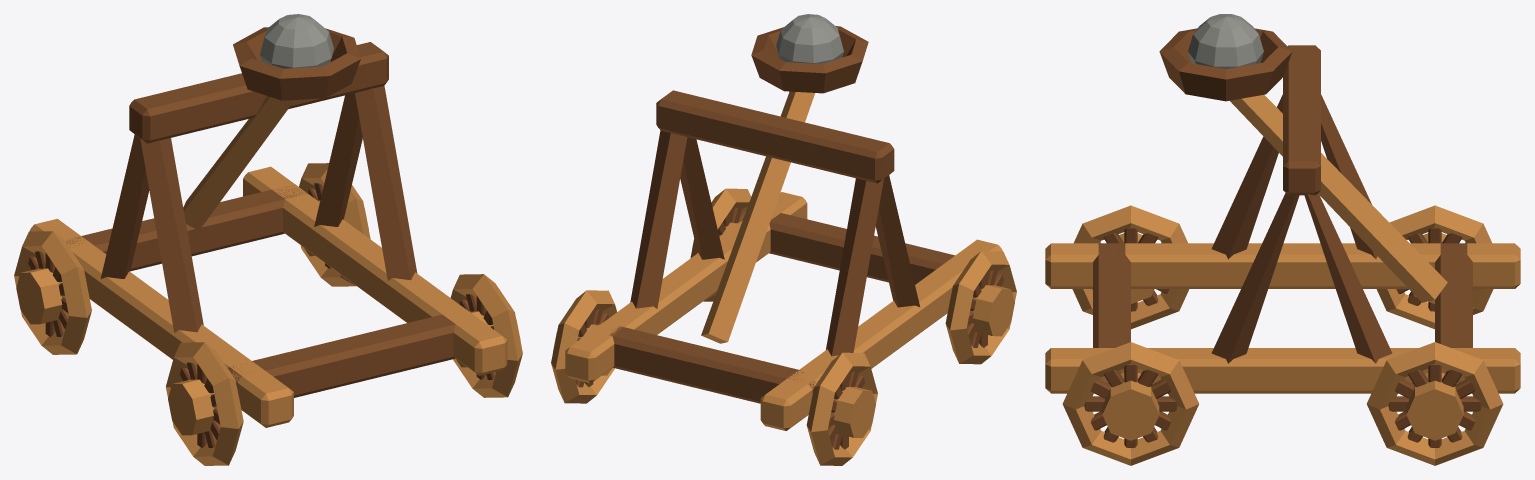
Rendered from Catapult.fbx.
The picture shows the model from 3 angles, left to right: view 1: azimuth 30°, elevation 25°; view 2: azimuth 150°, elevation 25°; view 3: azimuth 270°, elevation 25°; orthographic projection. The views are drawn at different scales.
Parts seen in each view (by area): view 1: Catapult, Catapult_Arm, Catapult_WheelBR, Catapult_WheelFR, Catapult_WheelFL, Catapult_WheelBL; view 2: Catapult, Catapult_Arm, Catapult_WheelBR, Catapult_WheelFR, Catapult_WheelBL, Catapult_WheelFL; view 3: Catapult, Catapult_Arm, Catapult_WheelBL, Catapult_WheelFL, Catapult_WheelFR, Catapult_WheelBR.
Part boxes in pixels (x1,y1,x2,y2): Catapult: (29,42,507,427); Catapult_Arm: (183,14,360,230); Catapult_WheelBR: (14,231,91,354); Catapult_WheelFR: (166,342,243,465); Catapult_WheelFL: (450,274,522,397); Catapult_WheelBL: (299,163,370,286); Catapult: (565,90,1002,430); Catapult_Arm: (701,14,868,343); Catapult_WheelBR: (806,352,877,465); Catapult_WheelFR: (945,251,1016,364); Catapult_WheelBL: (551,290,616,403); Catapult_WheelFL: (690,188,751,301); Catapult: (1045,45,1520,393); Catapult_Arm: (1159,14,1447,302); Catapult_WheelBL: (1367,342,1503,465); Catapult_WheelFL: (1062,342,1198,465); Catapult_WheelFR: (1072,205,1189,329); Catapult_WheelBR: (1376,205,1493,329).
Size of the model in its own units: 3.95 by 4.42 by 5.
Materials: 1 (1 with a texture image).
